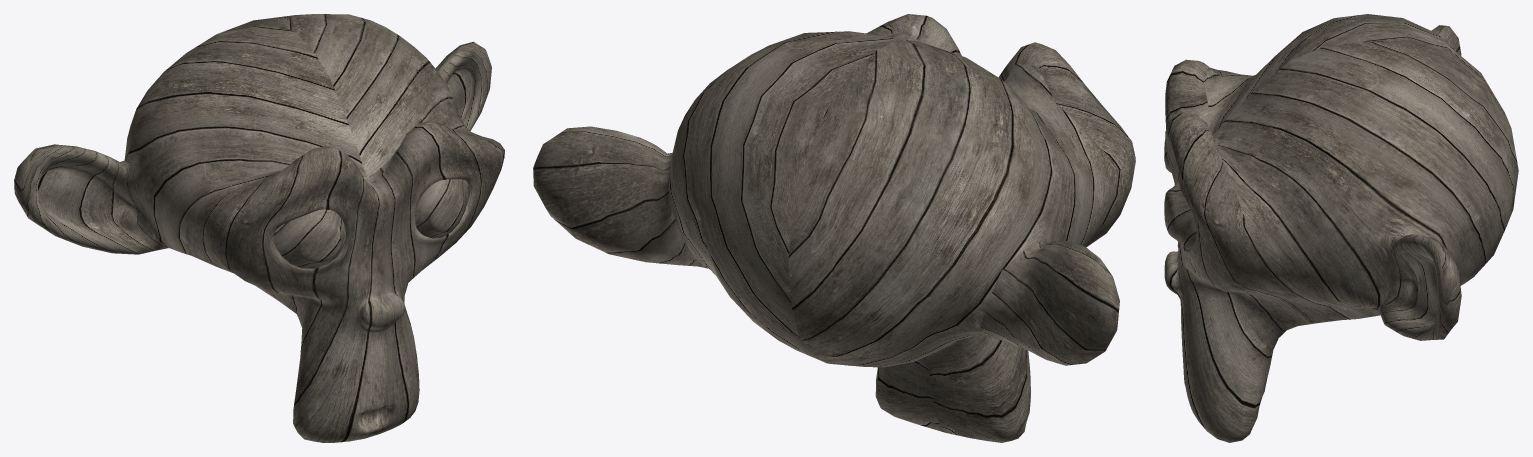
Rendered from monkey.glb.
The picture shows the model from 3 angles, left to right: view 1: azimuth 30°, elevation 25°; view 2: azimuth 150°, elevation 25°; view 3: azimuth 270°, elevation 25°; orthographic projection. The views are drawn at different scales.
Visible parts, largest first — view 1: Suzanne; view 2: Suzanne; view 3: Suzanne.
Part boxes in pixels (left/top/right/bottom): Suzanne: left=14, top=14, right=504, bottom=442; Suzanne: left=533, top=14, right=1135, bottom=442; Suzanne: left=1164, top=14, right=1518, bottom=442.
Bounding box in the file's own units: 2.65 × 1.91 × 1.6.
Materials: 1 (1 with a texture image).
